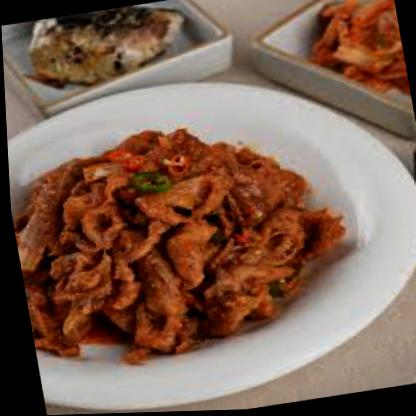Kimchi stew: (288, 0, 407, 96)
grilled mackerel: (9, 0, 201, 98)
jeyuk bokkeum: (4, 100, 358, 377)
